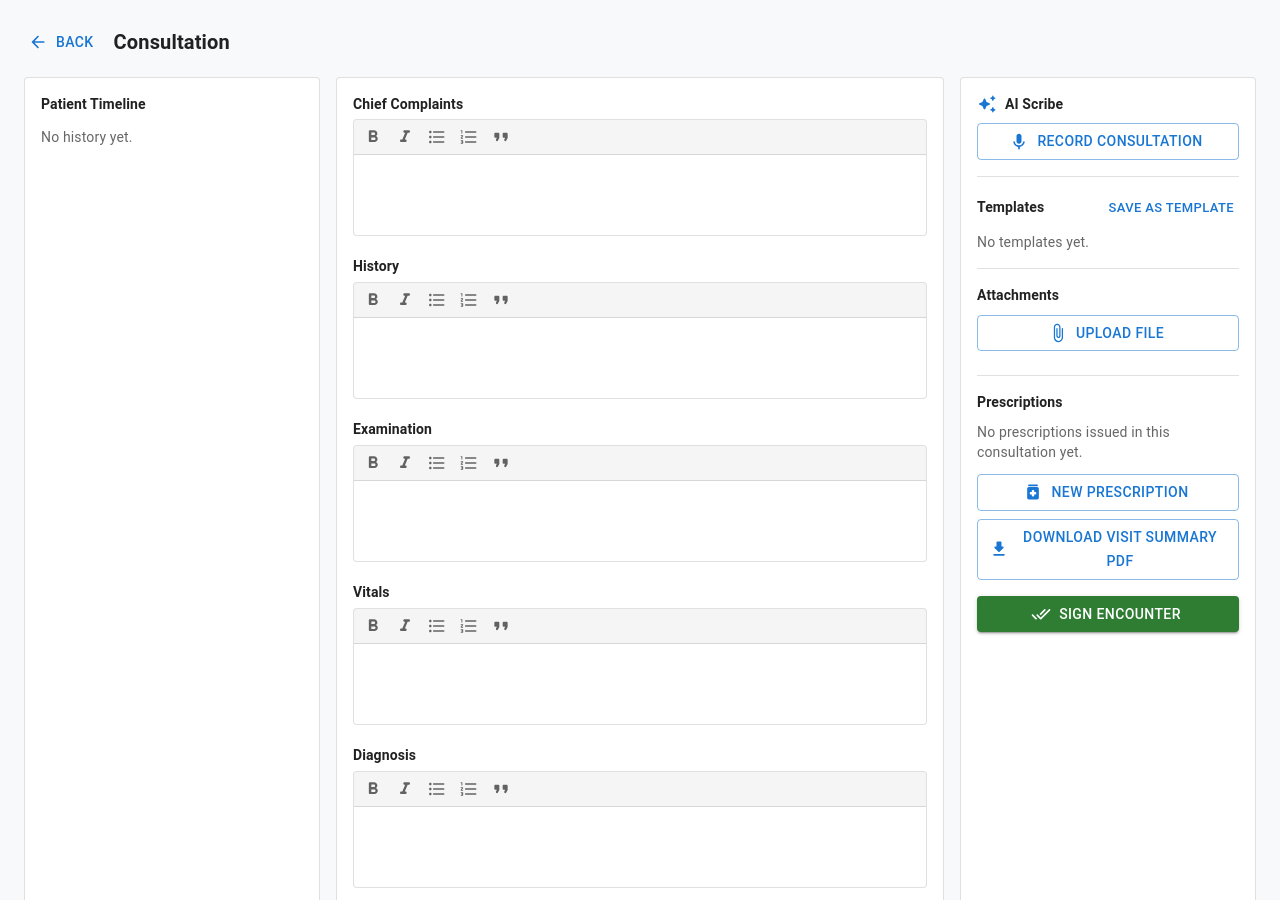
Test: EncounterWorkspace — diagnoses + save-as-template (A-5/A-6) › saves the current note content as a reusable template
Check: the text "No templates yet." is shown, box x1=977 y1=234 x2=1089 y2=250
Click the button "Save as template". click: click(1171, 208)
box: x1=1103 y1=193 x2=1239 y2=224
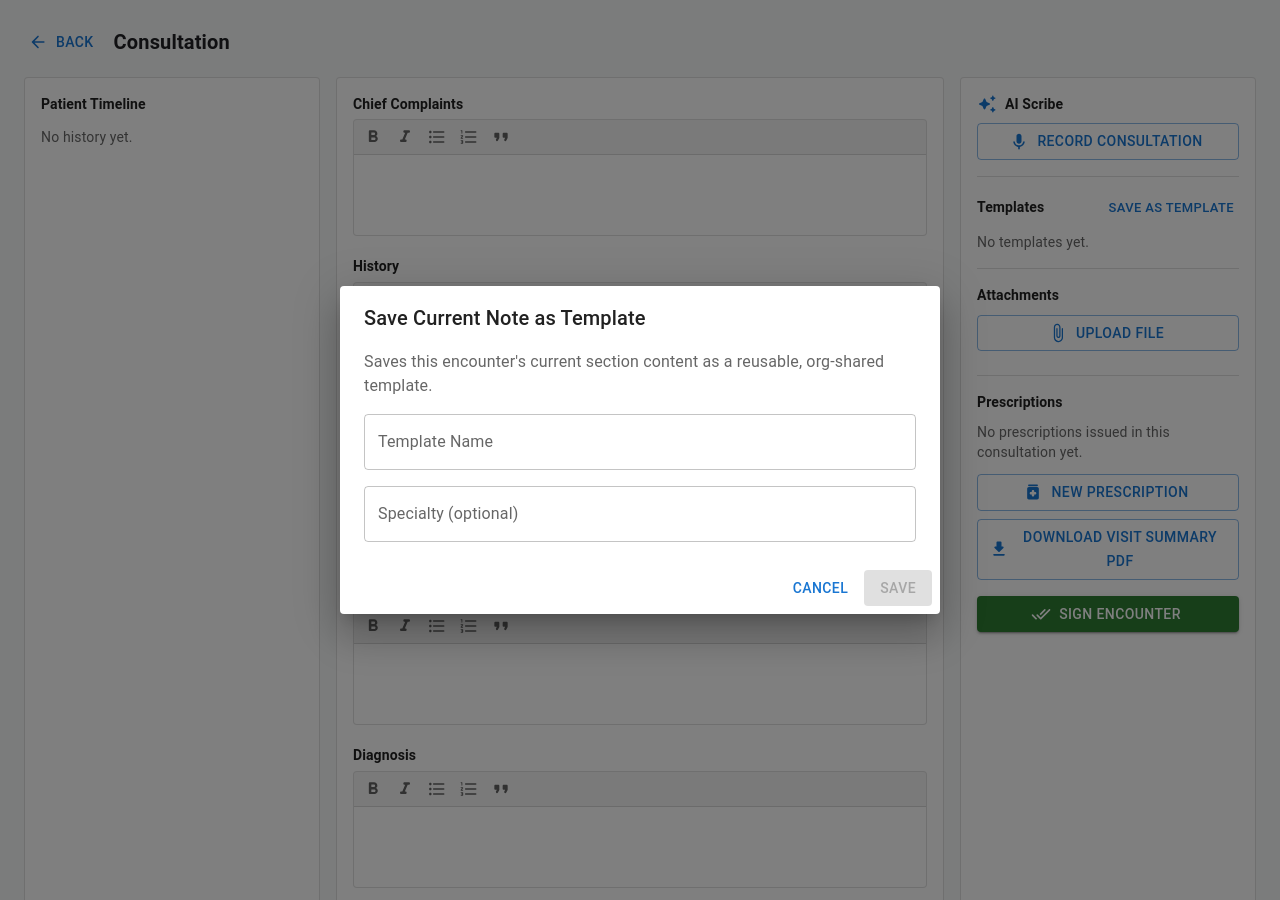
Type "Standard OPD Note" into the field labelled "Template Name". click: (640, 442)
box: x1=364 y1=414 x2=916 y2=470
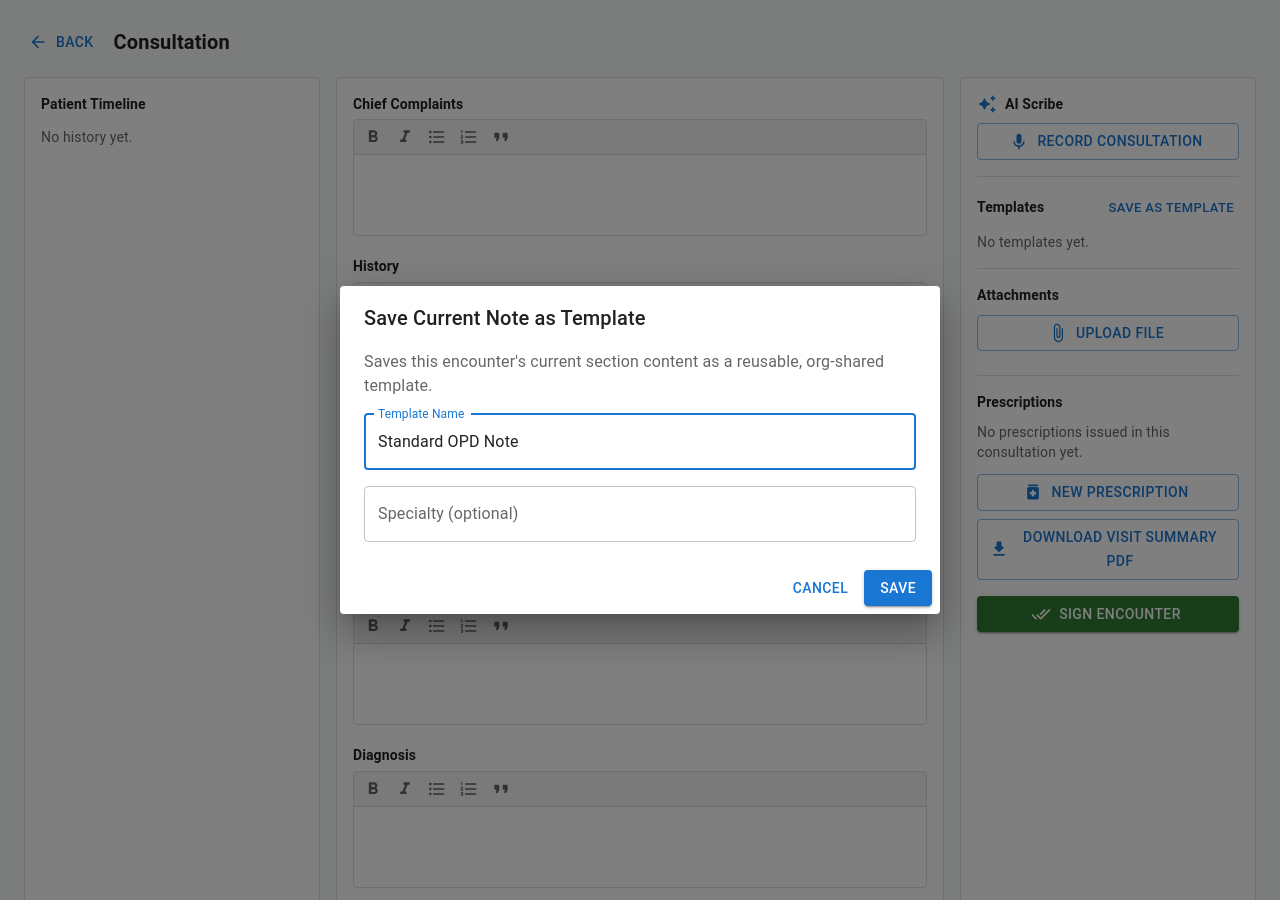
Click the button "Save". click: click(898, 588)
box: x1=864 y1=570 x2=932 y2=606
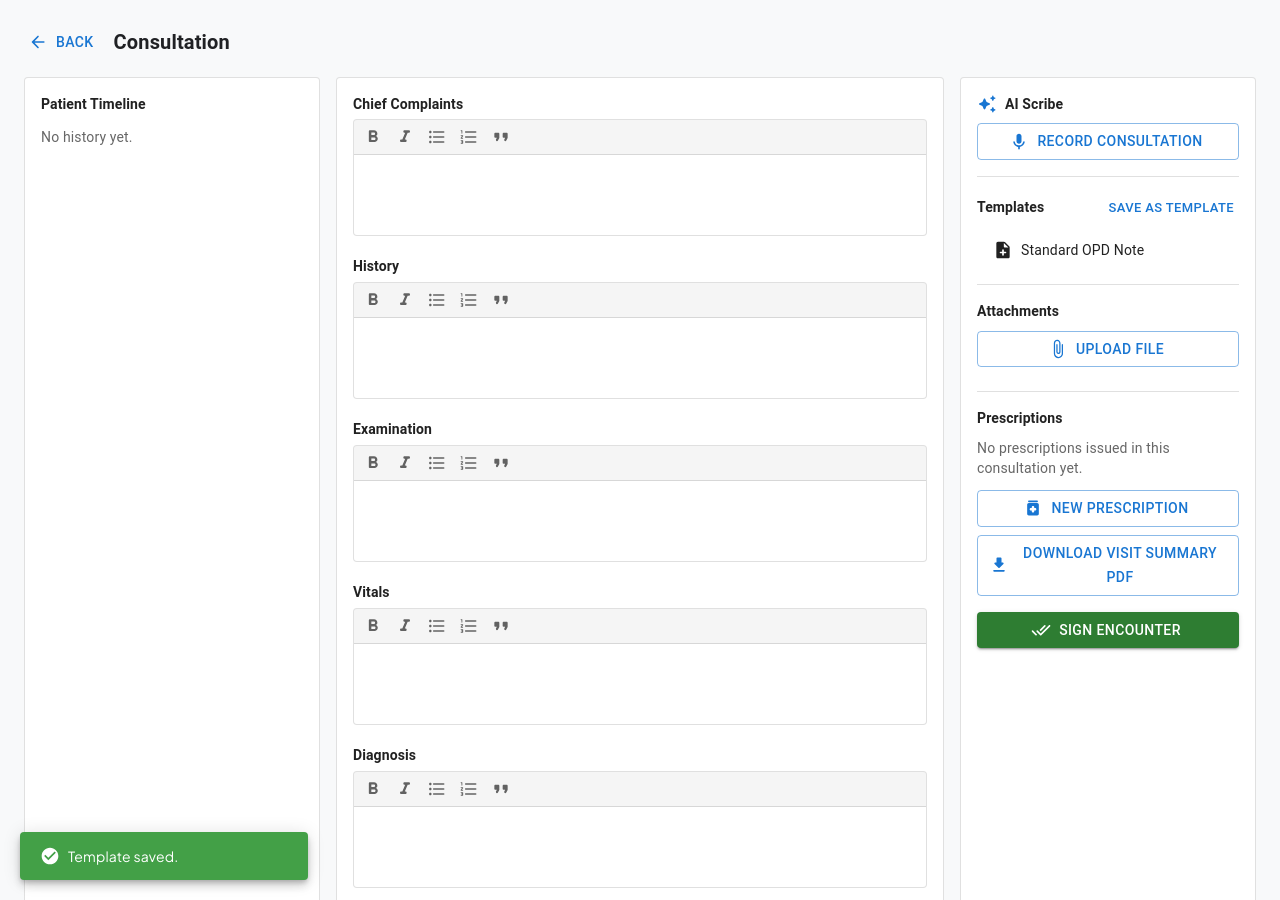
Check: the text "Template saved." is shown, box x1=40 y1=846 x2=178 y2=866
